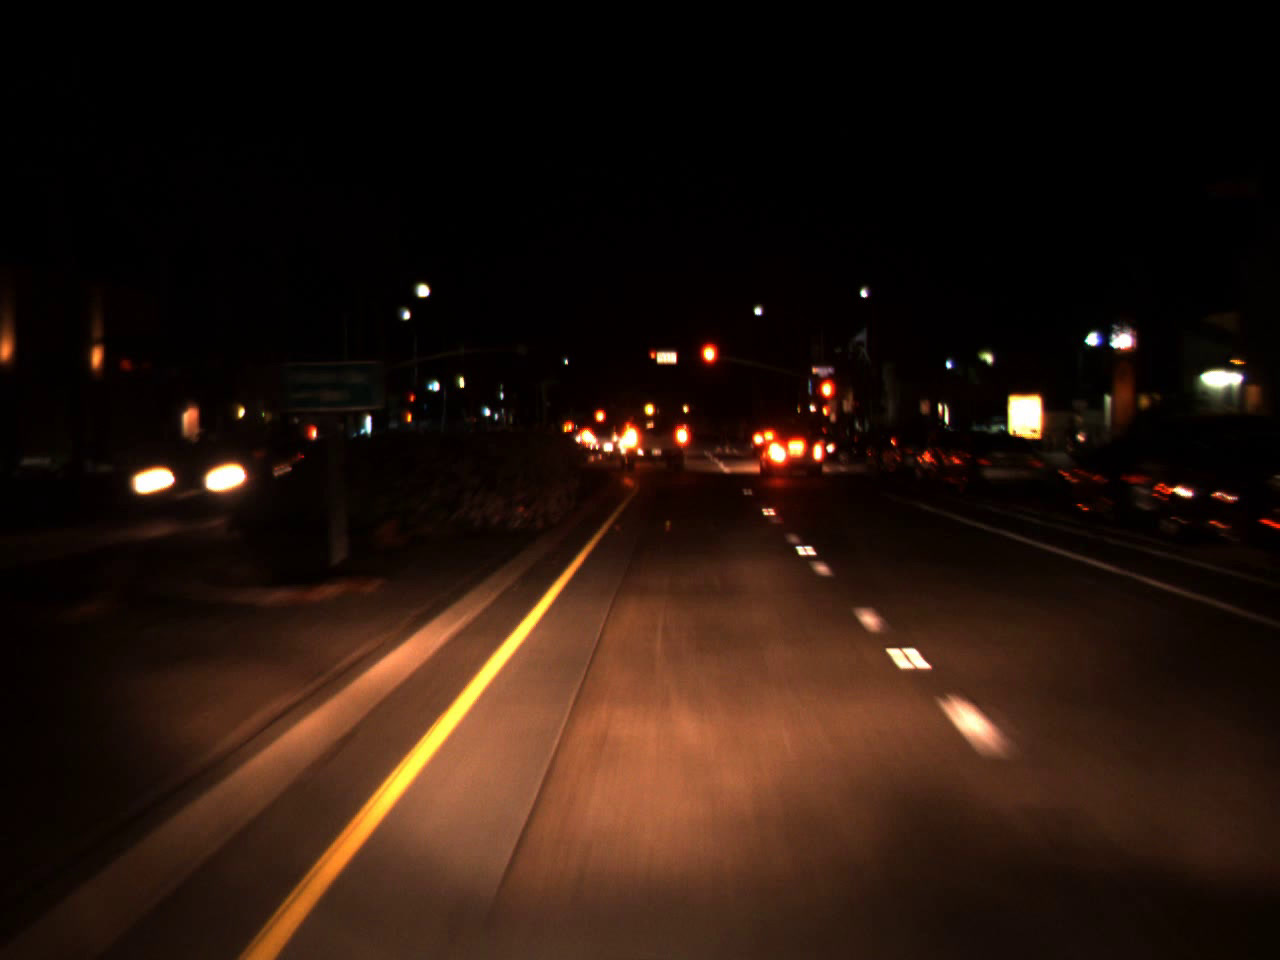stop: (698, 339, 720, 387), (816, 375, 837, 423), (649, 350, 656, 366), (409, 394, 415, 407)
